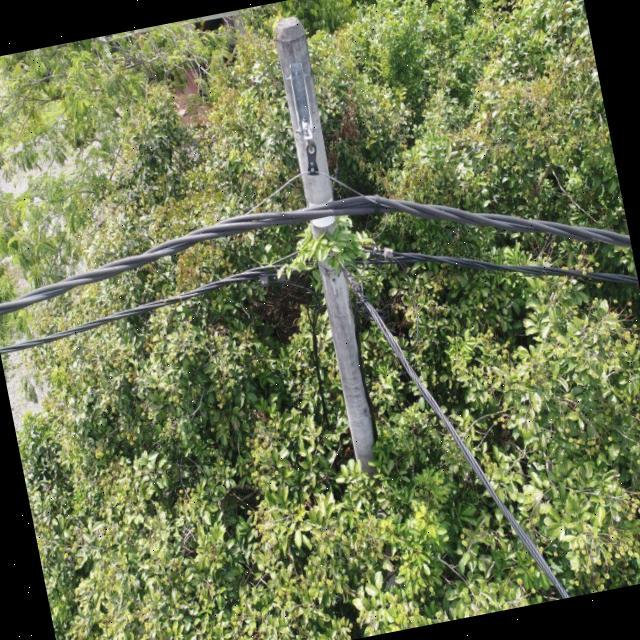critical vegetation: (264, 192, 382, 294)
